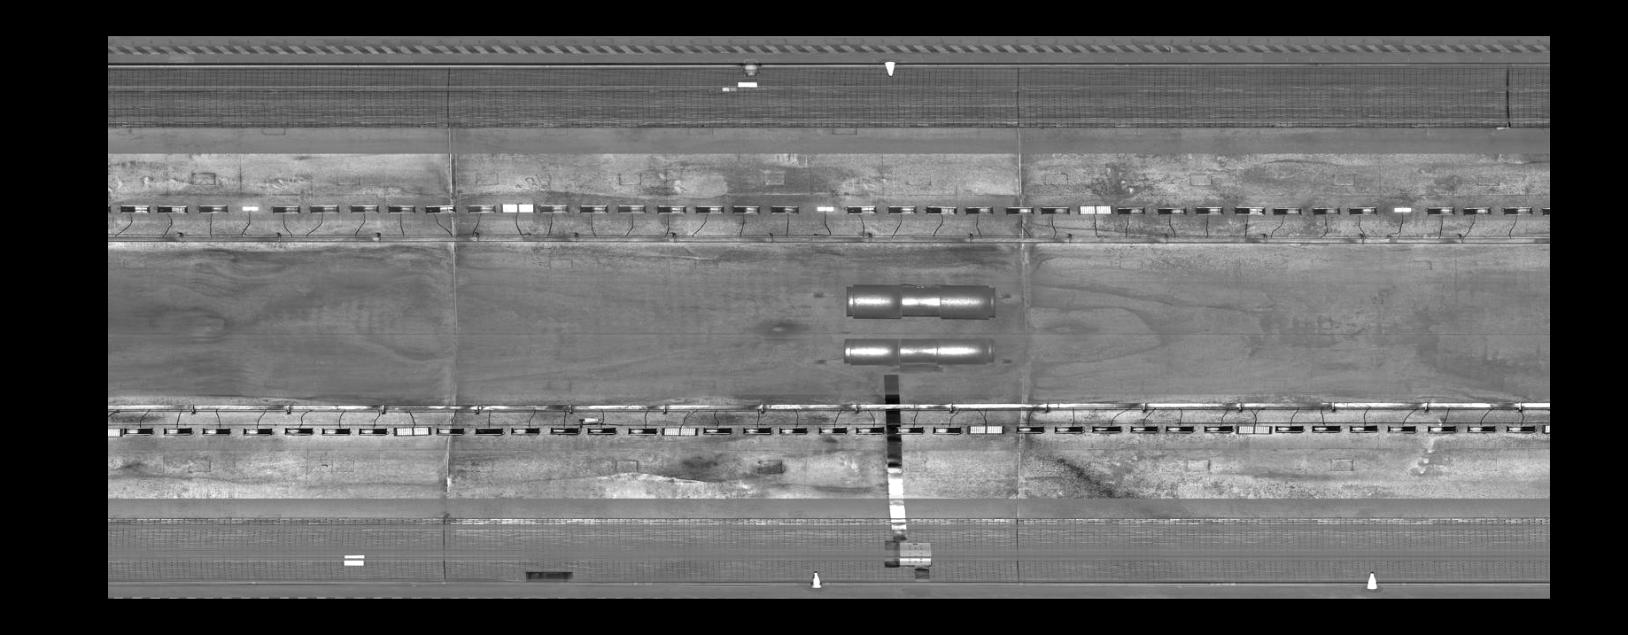light: (536, 201, 573, 216), (391, 425, 433, 438), (1231, 204, 1269, 218), (1076, 203, 1113, 217), (967, 423, 1007, 436), (1233, 423, 1273, 436), (660, 425, 700, 438), (653, 202, 689, 216), (153, 203, 191, 216), (499, 201, 535, 215), (422, 202, 457, 216), (308, 201, 341, 216), (1038, 203, 1073, 217), (614, 202, 648, 216), (577, 202, 612, 216), (1193, 203, 1226, 217), (347, 202, 380, 216), (885, 203, 920, 216), (691, 203, 727, 216), (116, 203, 152, 216), (922, 204, 960, 216), (1154, 204, 1188, 217), (1002, 203, 1036, 216), (702, 423, 736, 436), (317, 425, 354, 437), (194, 203, 230, 215), (240, 425, 276, 437), (1270, 205, 1303, 218), (962, 203, 996, 216), (464, 202, 497, 215), (548, 424, 581, 437), (1503, 422, 1539, 434), (197, 425, 233, 437), (1501, 203, 1534, 216), (386, 202, 418, 215), (270, 203, 302, 216), (741, 424, 774, 437), (844, 203, 878, 215), (1272, 422, 1306, 434), (893, 424, 927, 436), (433, 424, 467, 436), (1424, 204, 1456, 217), (1310, 205, 1344, 217), (1114, 205, 1147, 217), (729, 204, 762, 216), (853, 425, 887, 437), (626, 425, 659, 437), (586, 425, 619, 437), (472, 425, 506, 437), (356, 426, 389, 438), (159, 425, 195, 436), (1345, 205, 1380, 216), (281, 425, 317, 436), (1460, 205, 1494, 216), (1385, 423, 1419, 434), (1345, 423, 1379, 434), (1309, 423, 1344, 434), (508, 425, 542, 436), (767, 204, 801, 215), (1162, 423, 1195, 434), (816, 425, 849, 436), (777, 425, 810, 436), (123, 425, 156, 436), (1464, 424, 1500, 434), (1012, 424, 1044, 435), (931, 425, 964, 436), (1089, 424, 1124, 434), (1052, 424, 1087, 434), (1424, 424, 1459, 434), (1202, 424, 1236, 434), (1390, 204, 1416, 215), (1129, 424, 1160, 433), (237, 204, 263, 213), (813, 204, 836, 214), (108, 426, 123, 437), (1539, 203, 1549, 217), (1541, 420, 1549, 436)
